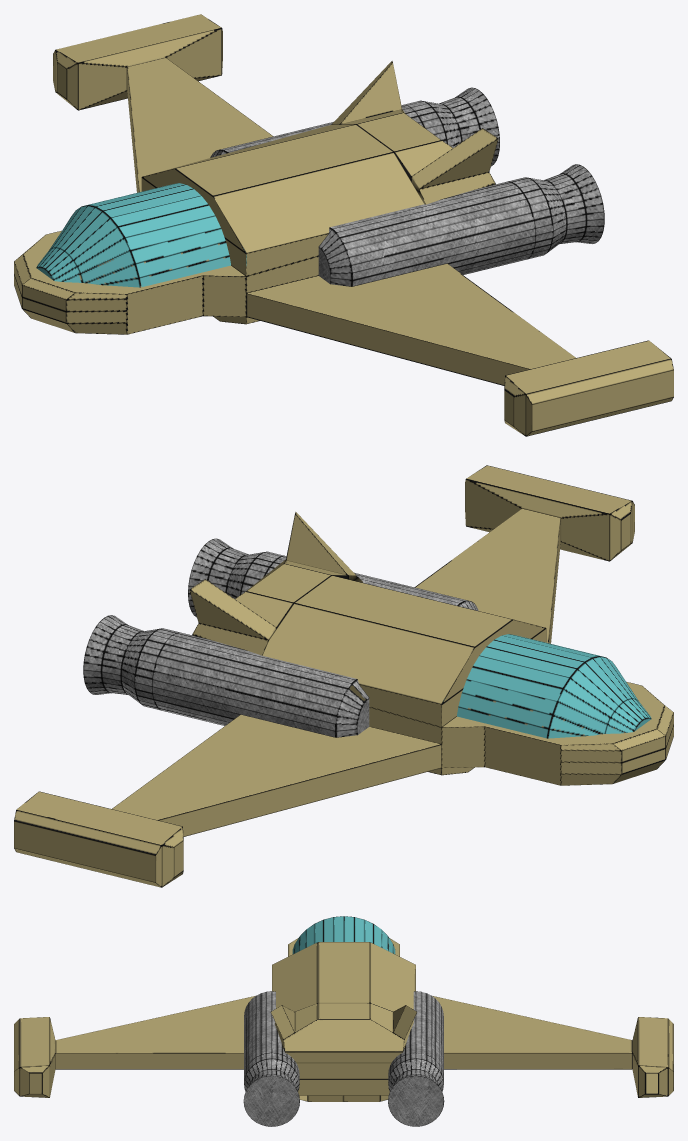
The model's file is fighter.obj.
3 renders of one model, top to bottom at view 1: azimuth 30°, elevation 25°; view 2: azimuth 150°, elevation 25°; view 3: azimuth 270°, elevation 25°, orthographic. The views are drawn at different scales.
Visible parts, largest first — view 1: fighter_Cube.005; view 2: fighter_Cube.005; view 3: fighter_Cube.005.
Boxes of the visible parts, x1=… form: fighter_Cube.005: x1=14, y1=14, x2=673, y2=436; fighter_Cube.005: x1=14, y1=465, x2=673, y2=887; fighter_Cube.005: x1=14, y1=916, x2=673, y2=1126.
Bounding box in the file's own units: 5.63 × 1.56 × 9.15.
1 material, 1 textured.
